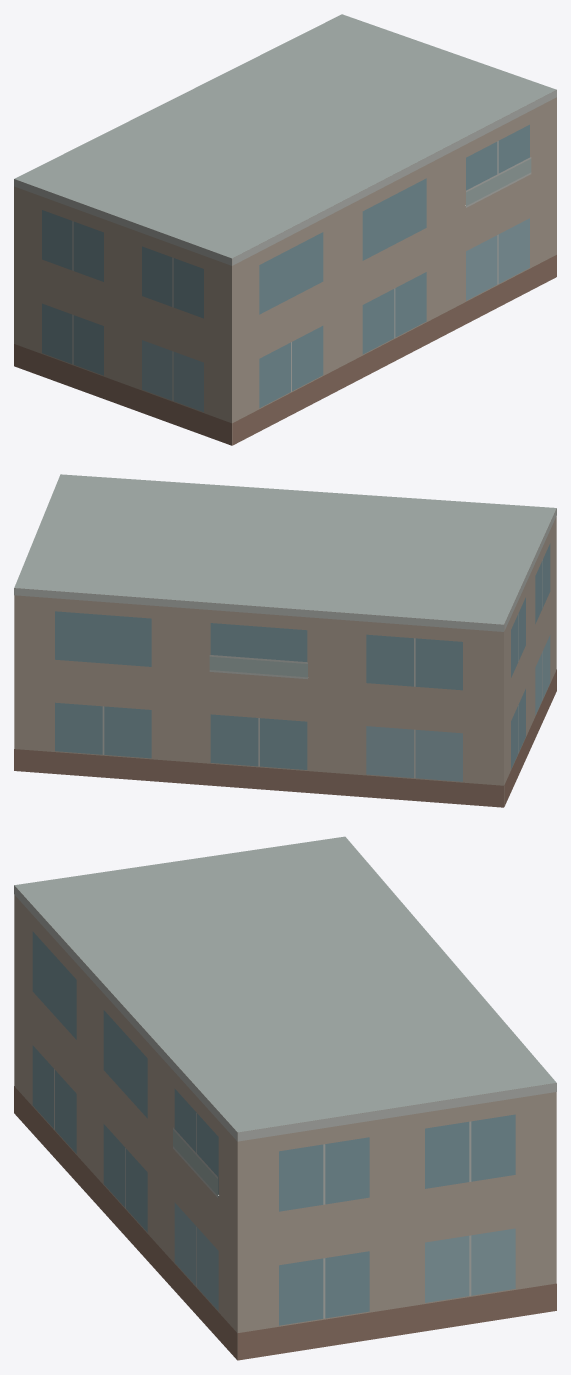
The model's file is survey-upis-32777380.glb.
The picture shows the model from 3 angles, top to bottom: view 1: azimuth 30°, elevation 25°; view 2: azimuth 150°, elevation 25°; view 3: azimuth 270°, elevation 25°; orthographic projection. The views are drawn at different scales.
Parts seen in each view (by area): view 1: survey-upis-32777380.tmp; view 2: survey-upis-32777380.tmp; view 3: survey-upis-32777380.tmp.
Boxes of the visible parts, x1=… form: survey-upis-32777380.tmp: x1=14, y1=14, x2=556, y2=445; survey-upis-32777380.tmp: x1=14, y1=474, x2=556, y2=807; survey-upis-32777380.tmp: x1=14, y1=836, x2=556, y2=1360.
Size of the model in its own units: 17 by 6.1 by 13.17.
